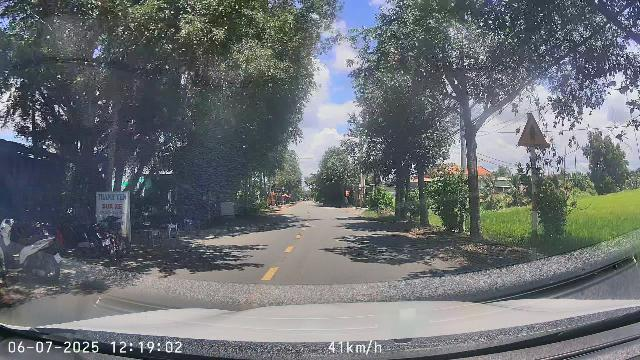207-giao-nhau-voi-duong-khong-uu-tien: (518, 114, 547, 146)
